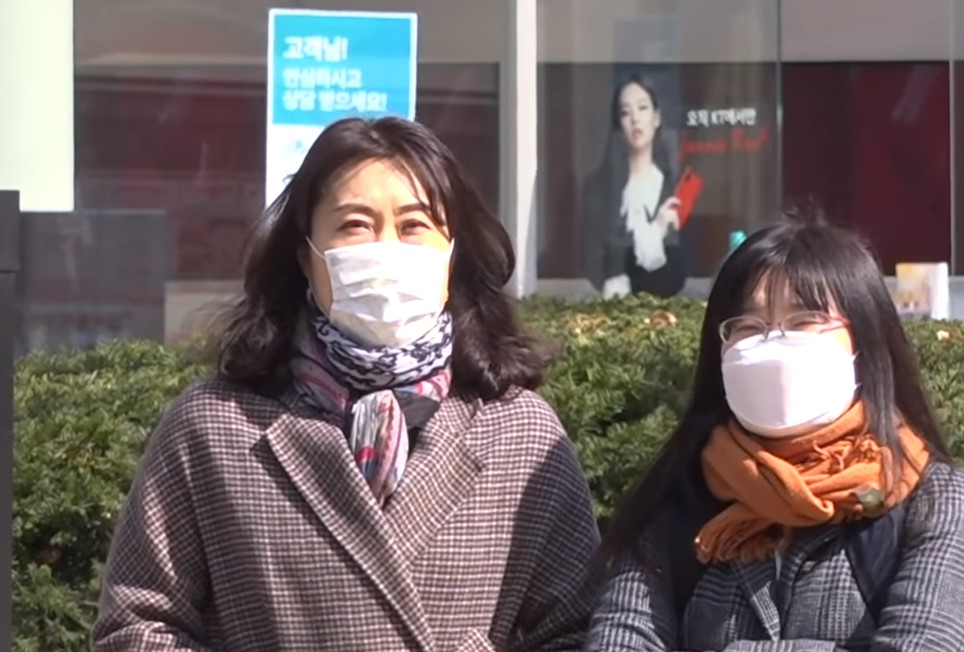face_with_mask: (284, 111, 471, 360), (710, 263, 869, 438)
